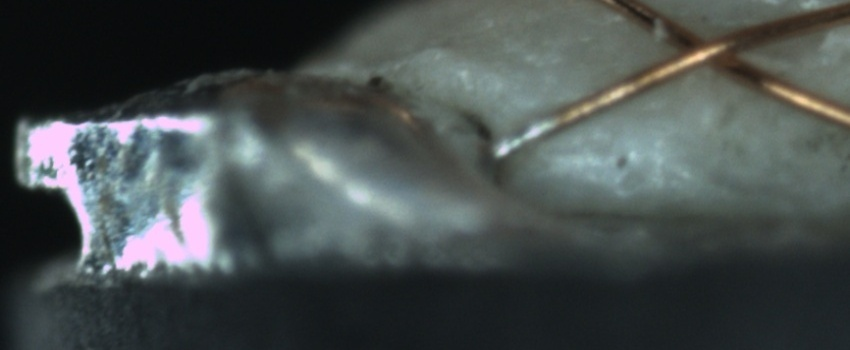CL: (644, 14, 775, 82)
TS: (489, 112, 551, 161)
TTCW: (487, 103, 567, 160)
